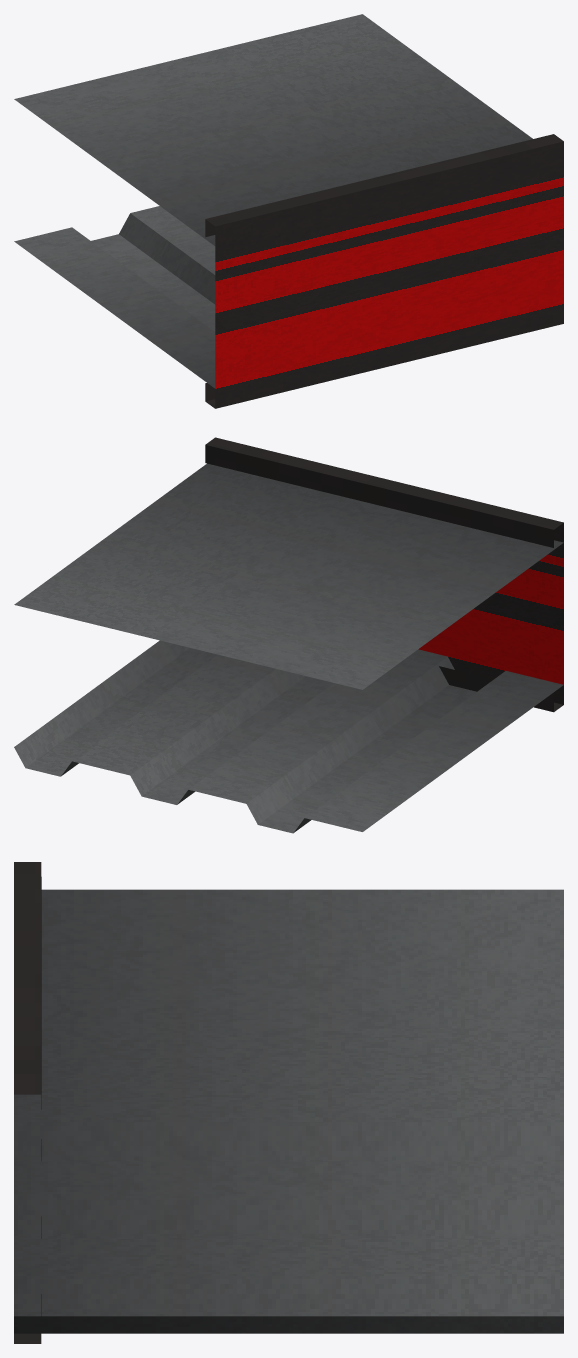
File: GasRoof_1.glb
The picture shows the model from 3 angles, top to bottom: view 1: azimuth 30°, elevation 25°; view 2: azimuth 150°, elevation 25°; view 3: azimuth 270°, elevation 25°; orthographic projection. The views are drawn at different scales.
Visible parts, largest first — view 1: GasRoof_1.001; view 2: GasRoof_1.001; view 3: GasRoof_1.001.
Boxes of the visible parts, left/top/right/bottom form: GasRoof_1.001: left=14, top=14, right=563, bottom=408; GasRoof_1.001: left=14, top=437, right=563, bottom=833; GasRoof_1.001: left=14, top=862, right=563, bottom=1343.
Bounding box in the file's own units: 2 × 1 × 2.
Materials: 1 (1 with a texture image).
